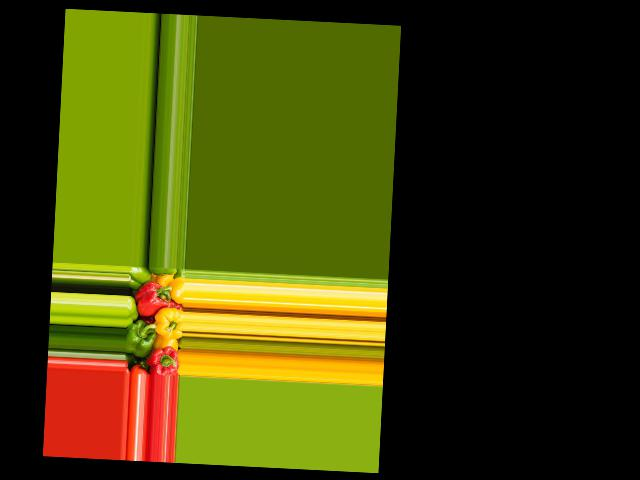bell_pepper: (145, 341, 180, 375)
